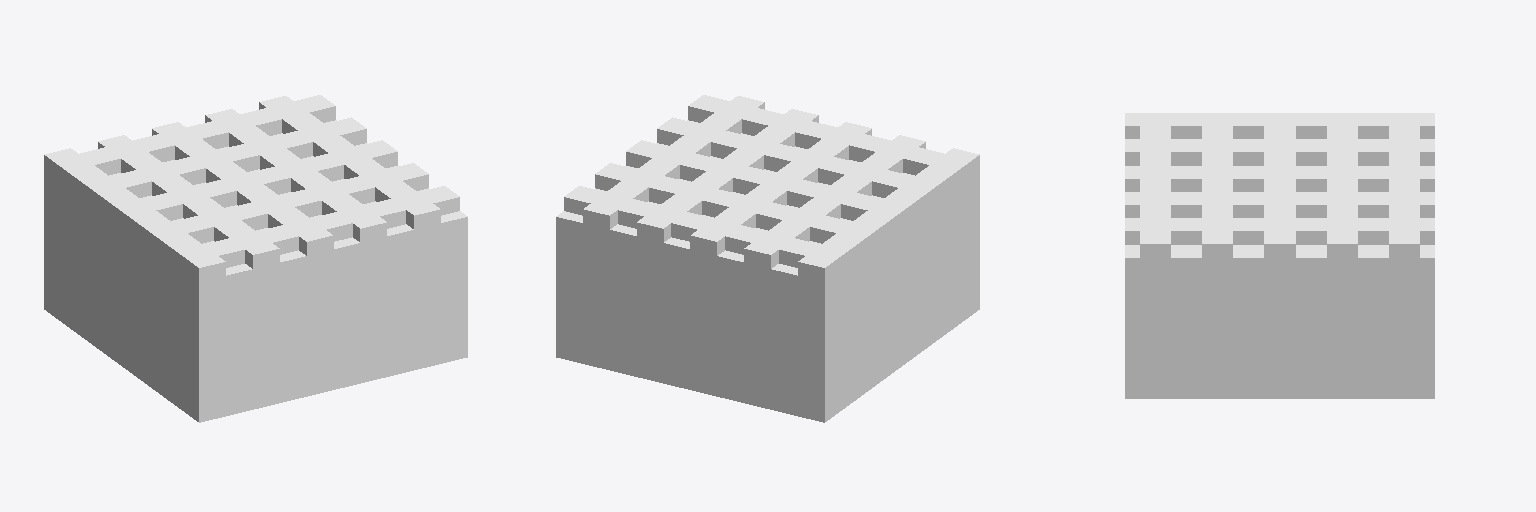
File: Lettuce_Level_1.obj
3 views of the same model, side by side, from view 1: azimuth 30°, elevation 25°; view 2: azimuth 150°, elevation 25°; view 3: azimuth 270°, elevation 25° (orthographic).
Visible parts, largest first — view 1: Lettuce_Level_1; view 2: Lettuce_Level_1; view 3: Lettuce_Level_1.
Part boxes in pixels (bbox=[...]): Lettuce_Level_1: bbox=[44, 95, 467, 422]; Lettuce_Level_1: bbox=[556, 95, 979, 422]; Lettuce_Level_1: bbox=[1125, 113, 1434, 398].
Bounding box in the file's own units: 20 × 11 × 20.